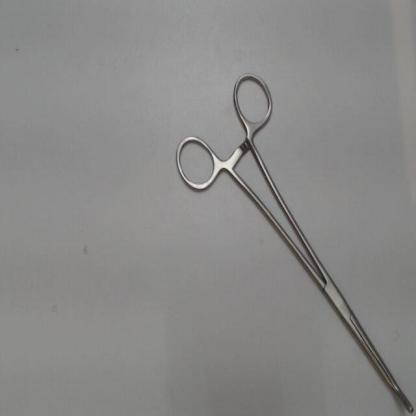Lahey Forceps: (169, 63, 413, 415)
